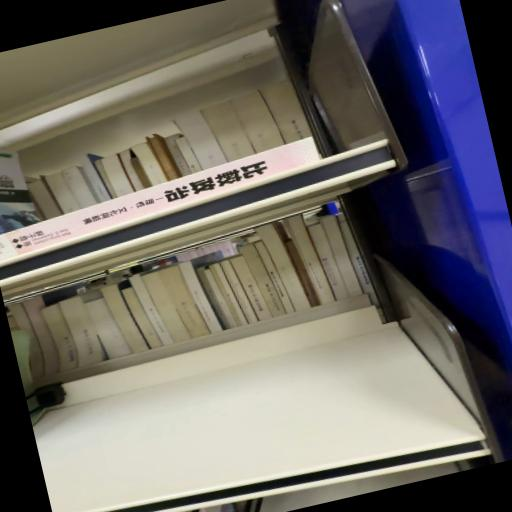flat: (1, 139, 319, 266)
